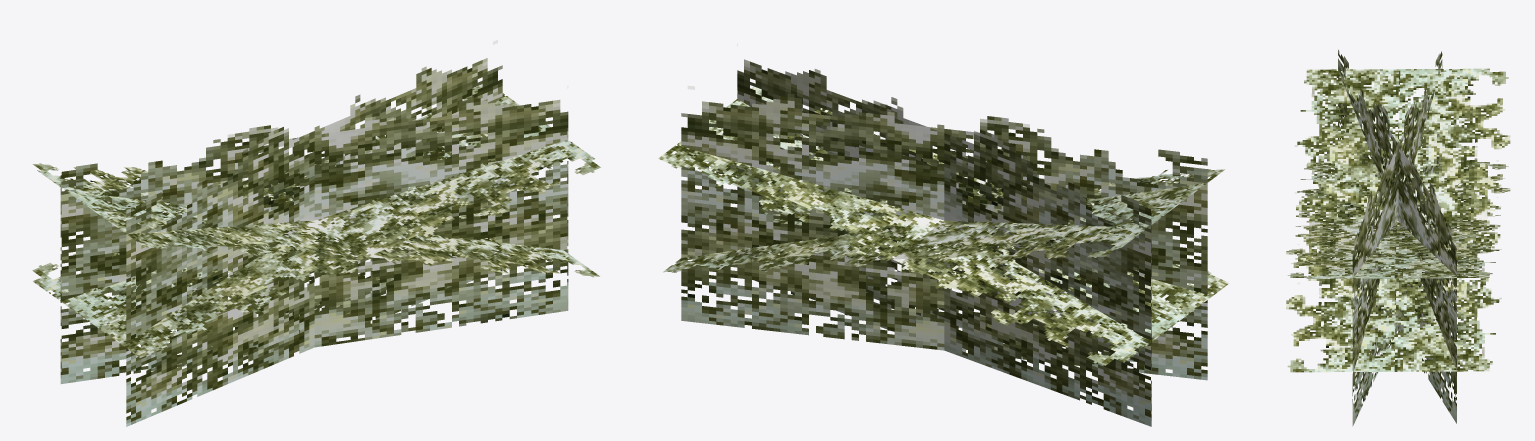
File: bush_long_full_overgrown_winter.glb
3 views of the same model, side by side, from view 1: azimuth 30°, elevation 25°; view 2: azimuth 150°, elevation 25°; view 3: azimuth 270°, elevation 25° (orthographic). The views are drawn at different scales.
Visible parts, largest first — view 1: bush_long_full_overgrown_winter; view 2: bush_long_full_overgrown_winter; view 3: bush_long_full_overgrown_winter.
Boxes of the visible parts, bbox=[...] form: bush_long_full_overgrown_winter: bbox=[32, 58, 600, 426]; bush_long_full_overgrown_winter: bbox=[658, 59, 1229, 426]; bush_long_full_overgrown_winter: bbox=[1286, 49, 1510, 426].
Size of the model in its own units: 2 by 1.06 by 1.08.
1 material, 1 textured.
